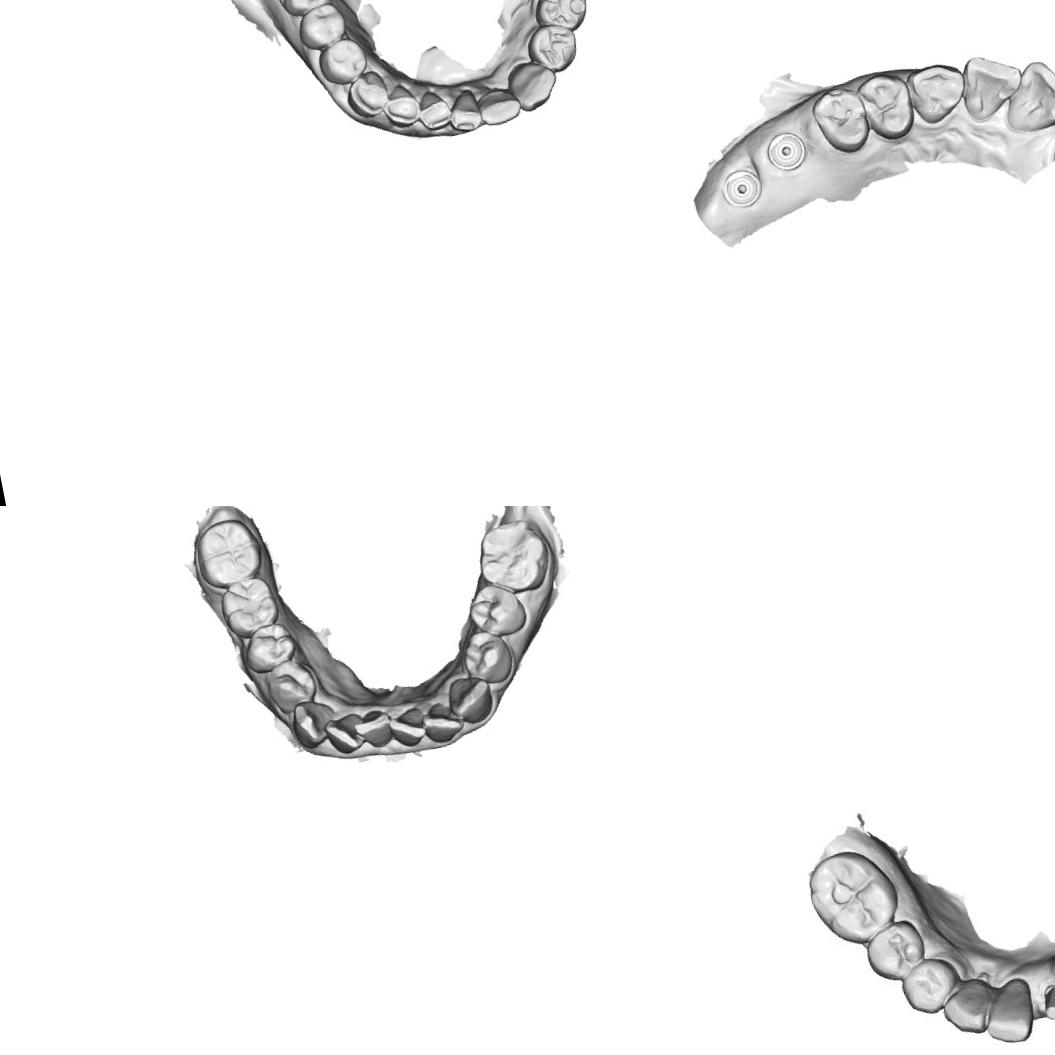abutment: (1036, 982, 1055, 1020)
canine: (902, 55, 972, 128), (935, 972, 998, 1040), (287, 694, 341, 752), (442, 671, 496, 728), (340, 66, 392, 122), (474, 81, 524, 128)
implant: (716, 166, 766, 213), (762, 127, 810, 174)
incisor: (955, 46, 1030, 126), (994, 54, 1055, 138), (978, 978, 1040, 1044), (416, 696, 469, 747), (378, 78, 424, 132), (319, 708, 368, 757), (384, 703, 429, 751), (443, 84, 484, 136), (350, 706, 396, 752), (412, 85, 455, 134)
molar: (802, 847, 895, 947), (470, 514, 556, 600), (188, 512, 266, 592), (215, 572, 284, 643), (527, 0, 591, 37), (264, 0, 340, 20)
premolar: (808, 80, 876, 159), (853, 66, 919, 146), (462, 577, 530, 643), (456, 624, 519, 690), (861, 916, 922, 982), (260, 654, 321, 718), (502, 54, 562, 115), (521, 18, 582, 76), (238, 619, 300, 676), (314, 33, 372, 90), (291, 0, 350, 53), (900, 956, 954, 1012)
